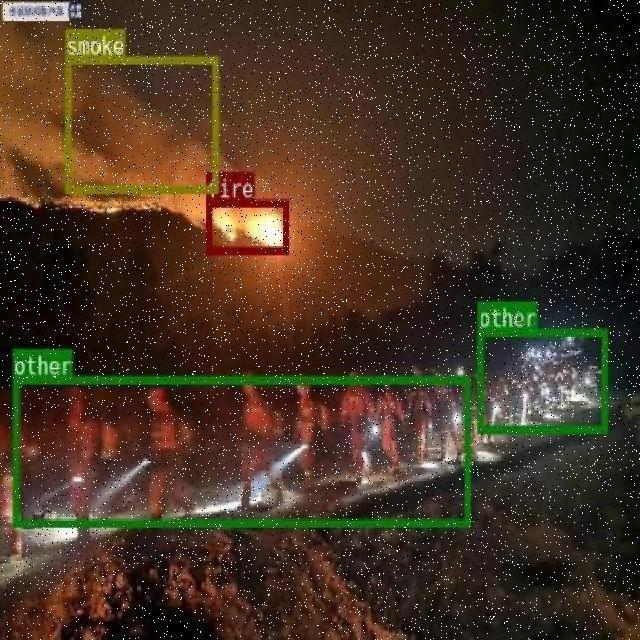smoke: (65, 55, 218, 192)
